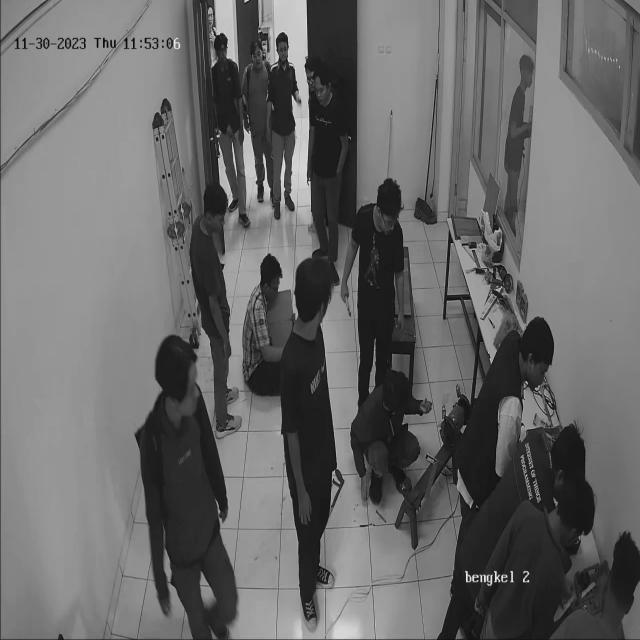person: (126, 314, 262, 640), (268, 241, 355, 631), (346, 146, 420, 527), (179, 165, 245, 447)
